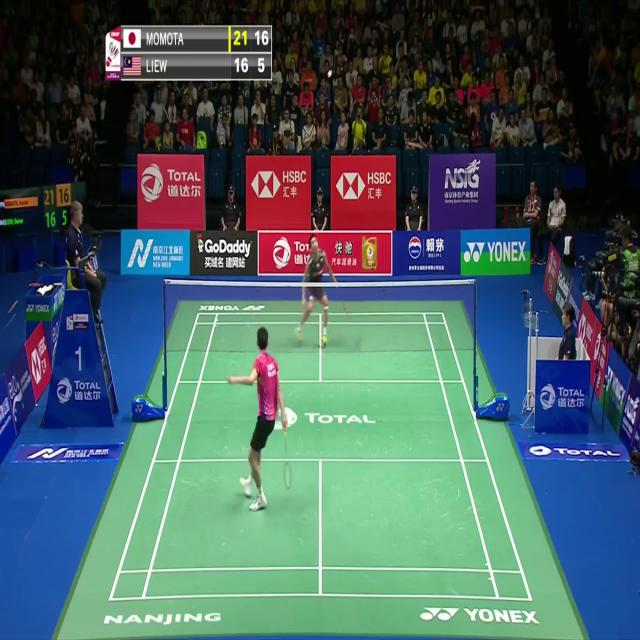Shuttlecock: (326, 67, 333, 79)
